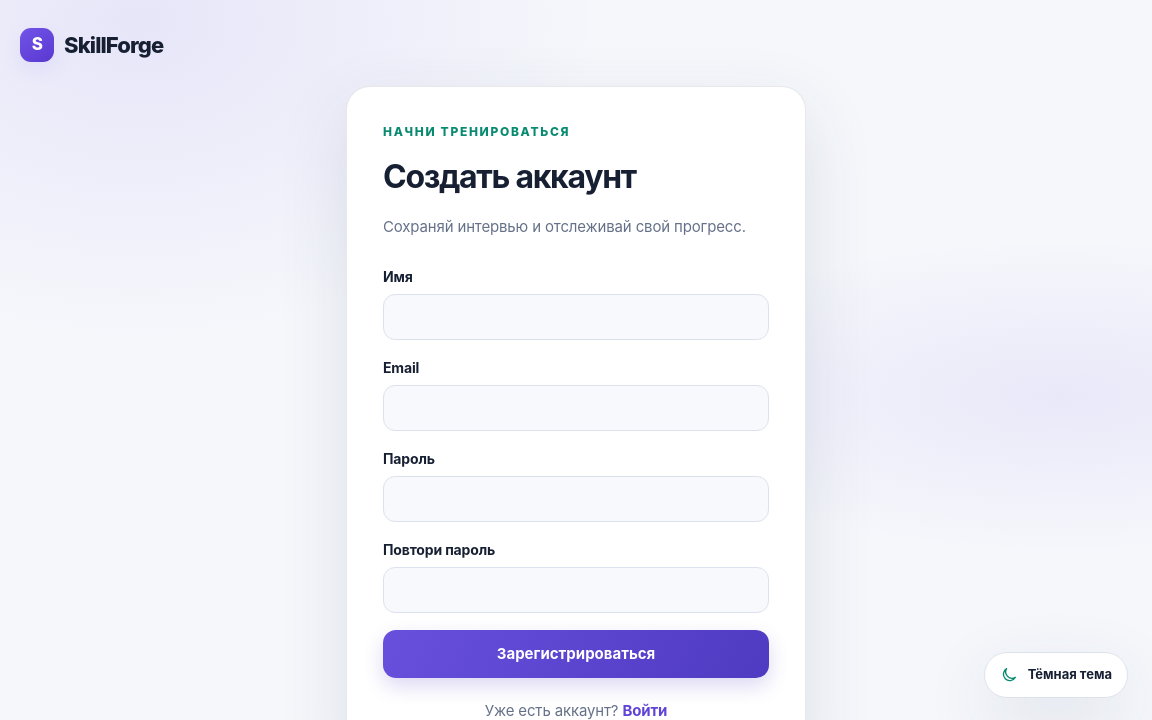
Test: authentication pages › registers, signs in, and opens the protected dashboard
Type "Ada Lovelace" into the field labelled "Имя" at (576, 317), box [383,294,769,340]
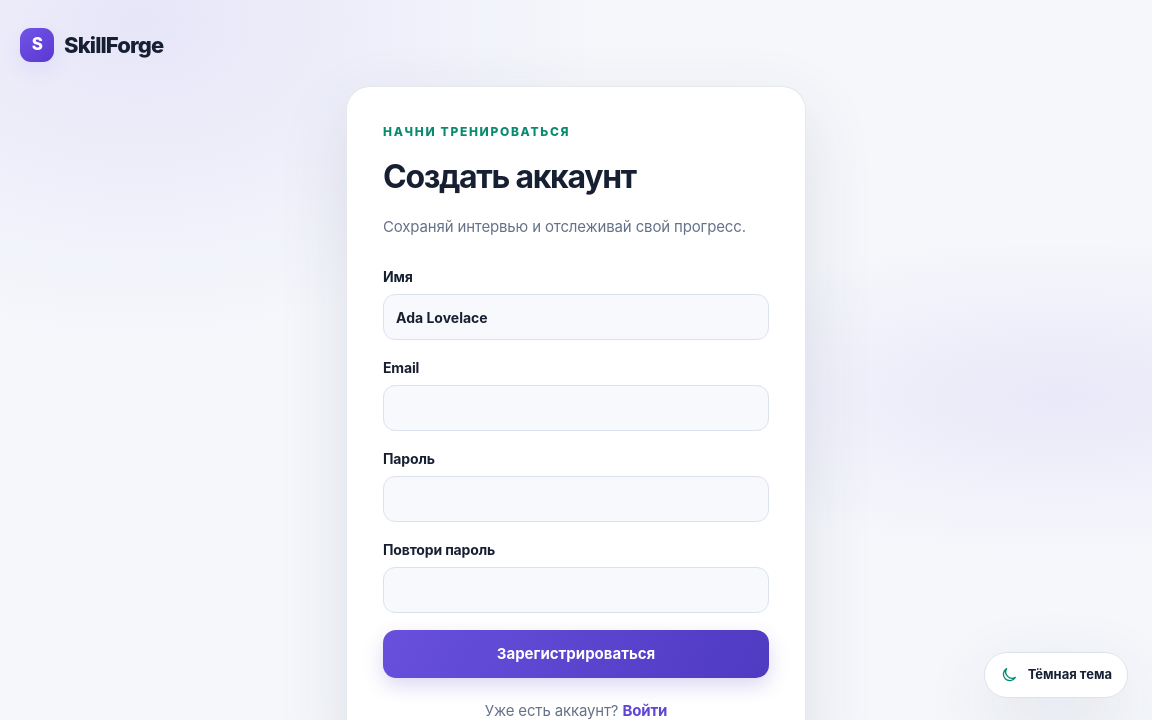
Type "ada@example.com" into the field labelled "Email" at (576, 408), box [383,385,769,431]
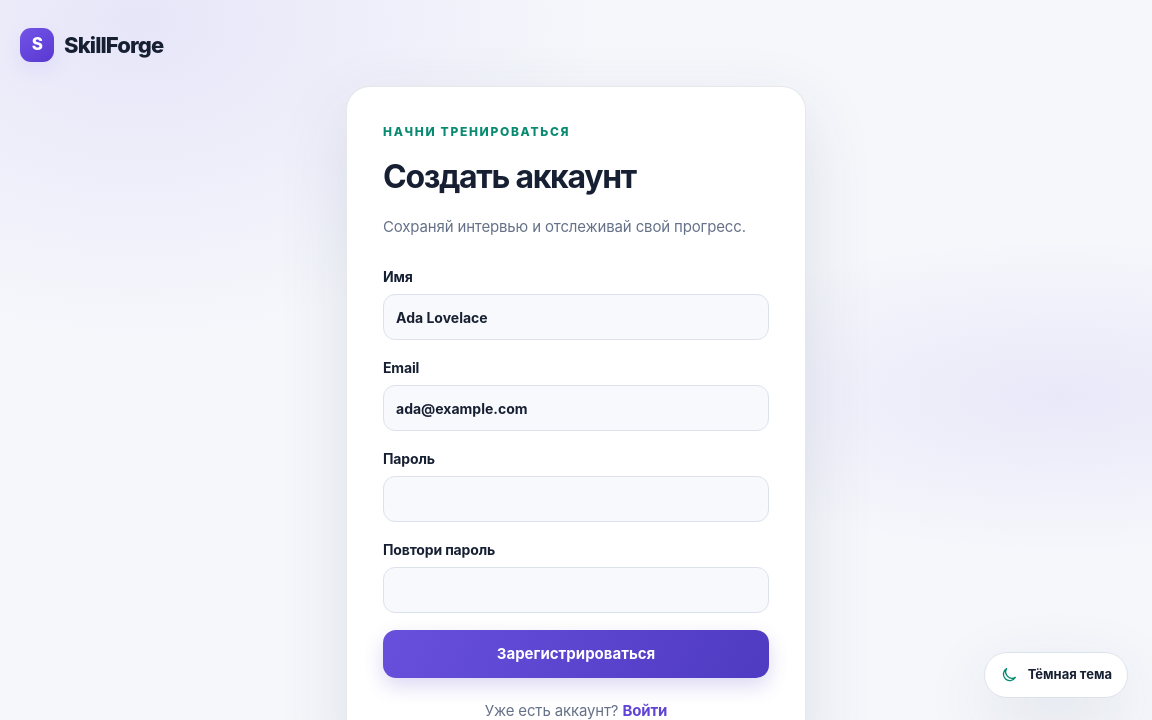
Type "correct horse" into the password field labelled "Пароль" at (576, 499), box [383,476,769,522]
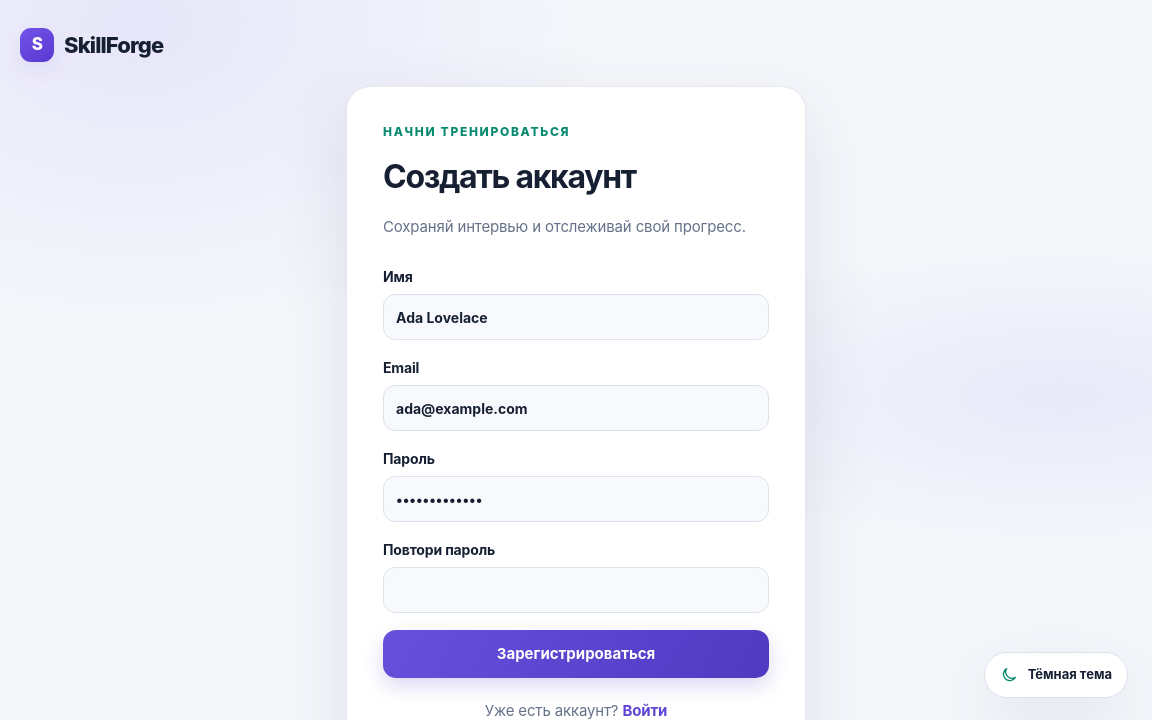
Type "correct horse" into the password field labelled "Повтори пароль" at (576, 590), box [383,567,769,613]
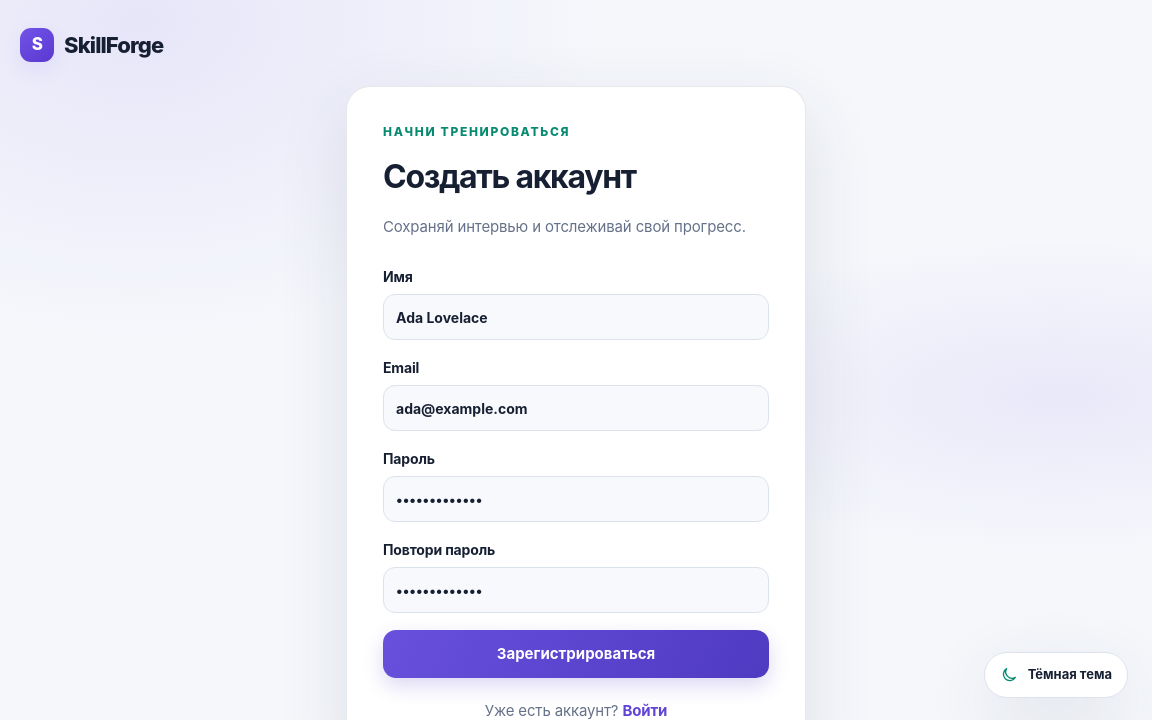
Click the button "Зарегистрироваться" at (576, 654), box [383,630,769,678]
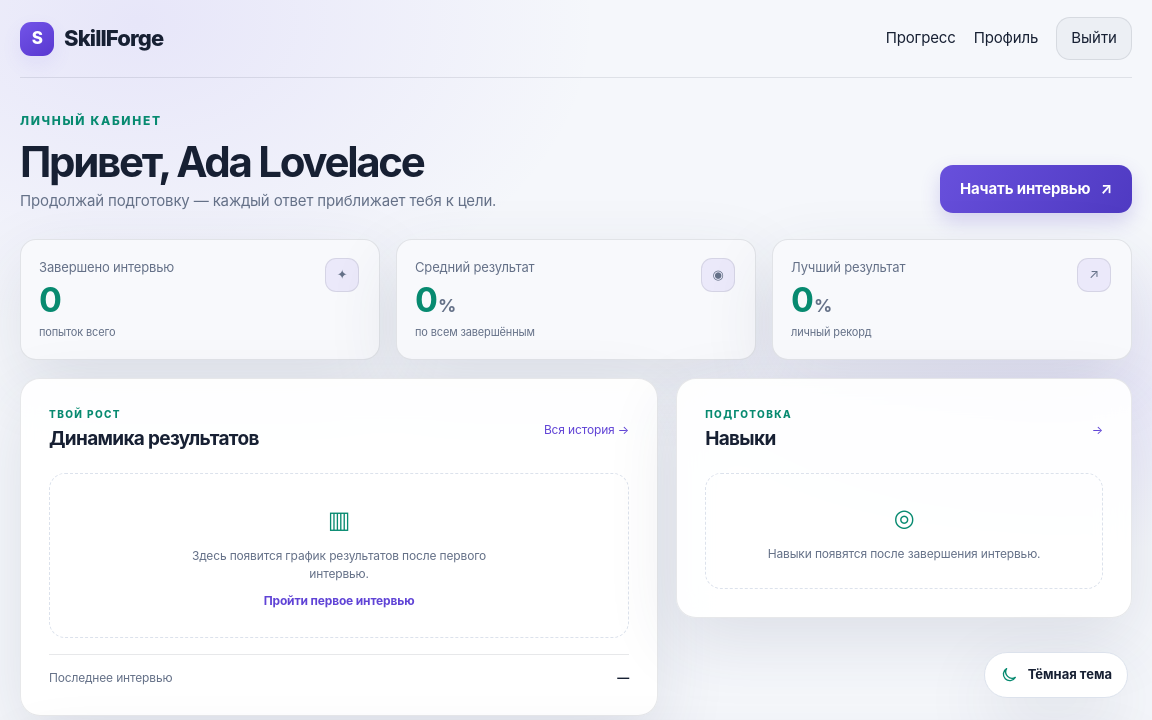
Result: the heading "Привет, Ada Lovelace" is shown at [20,136,423,187]
